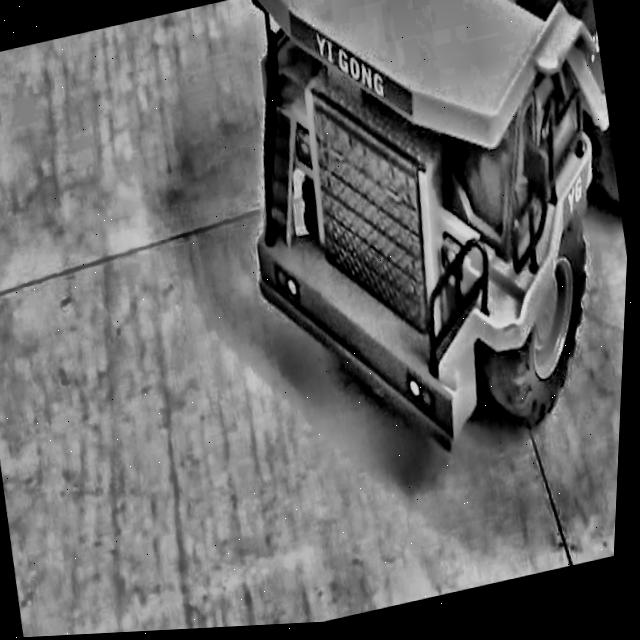dump_truck: (170, 0, 640, 519)
